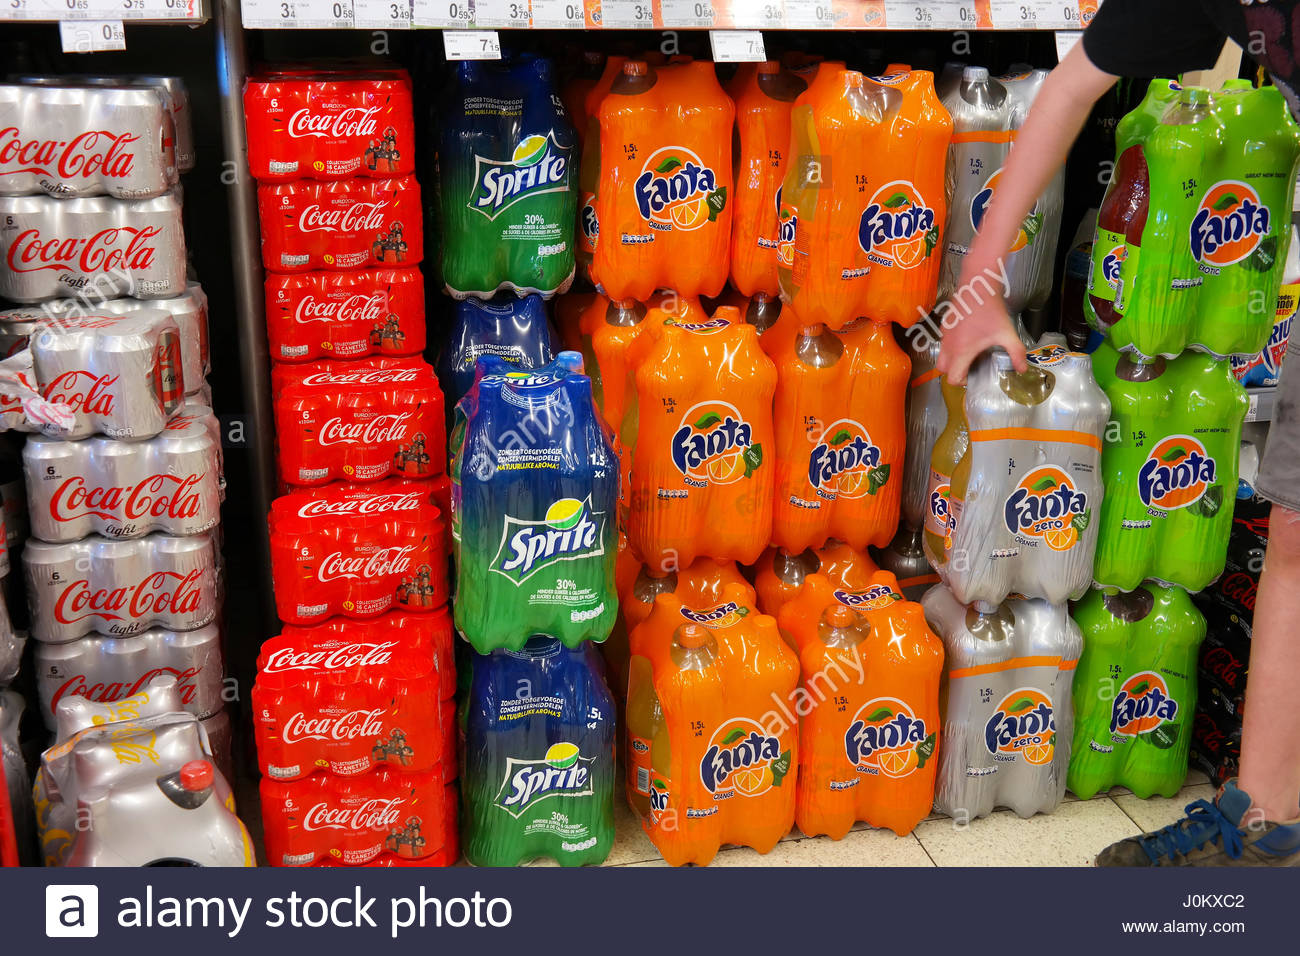fanta: (636, 585, 788, 850), (620, 328, 777, 560), (800, 566, 934, 837), (806, 73, 934, 318), (790, 328, 903, 563), (614, 69, 727, 285), (742, 81, 800, 302)
